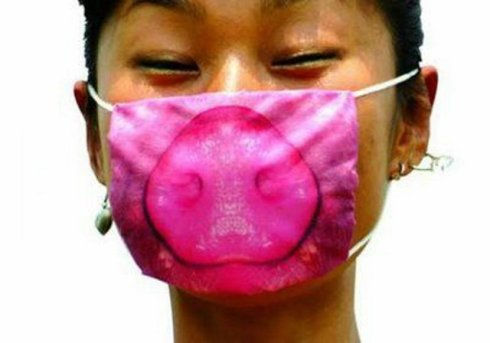face_mask: (100, 1, 389, 303)
